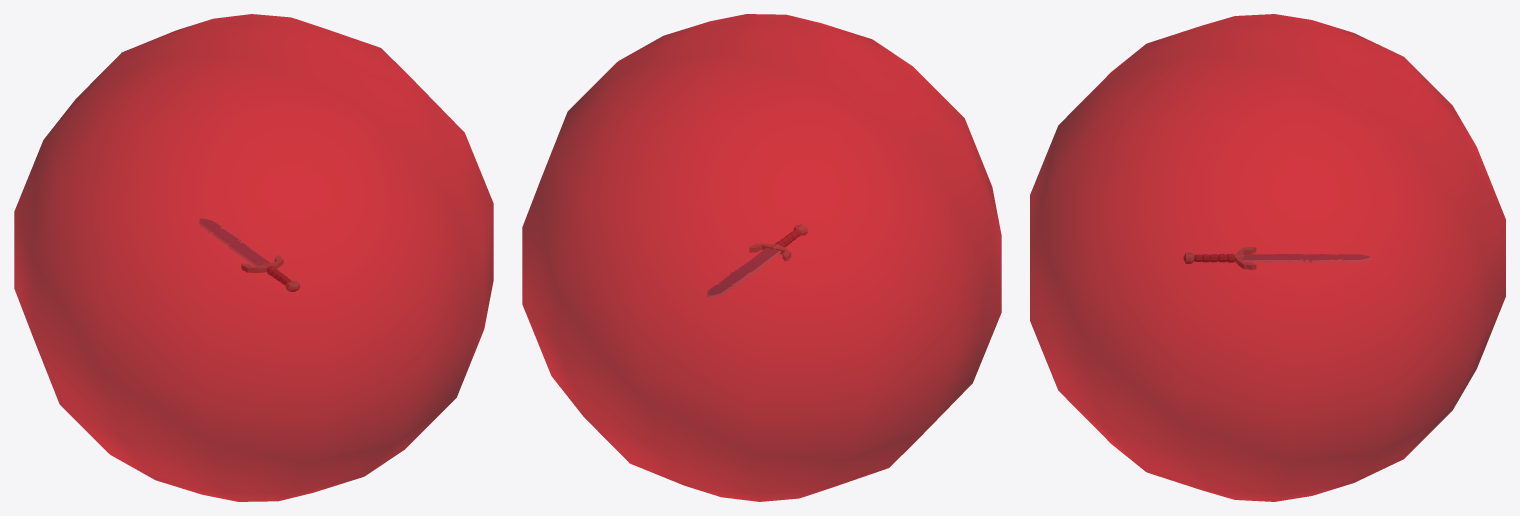
File: weapon.glb
The picture shows the model from 3 angles, left to right: view 1: azimuth 30°, elevation 25°; view 2: azimuth 150°, elevation 25°; view 3: azimuth 270°, elevation 25°; orthographic projection.
Visible parts, largest first — view 1: Sphere, Sword; view 2: Sphere, Sword; view 3: Sphere, Sword.
Part boxes in pixels (left/top/right/bottom): Sphere: left=14, top=14, right=493, bottom=501; Sword: left=199, top=218, right=299, bottom=291; Sphere: left=522, top=14, right=1001, bottom=501; Sword: left=707, top=225, right=807, bottom=297; Sphere: left=1030, top=14, right=1505, bottom=501; Sword: left=1184, top=247, right=1373, bottom=269.
Bounding box in the file's own units: 1.96 × 2 × 1.94.
